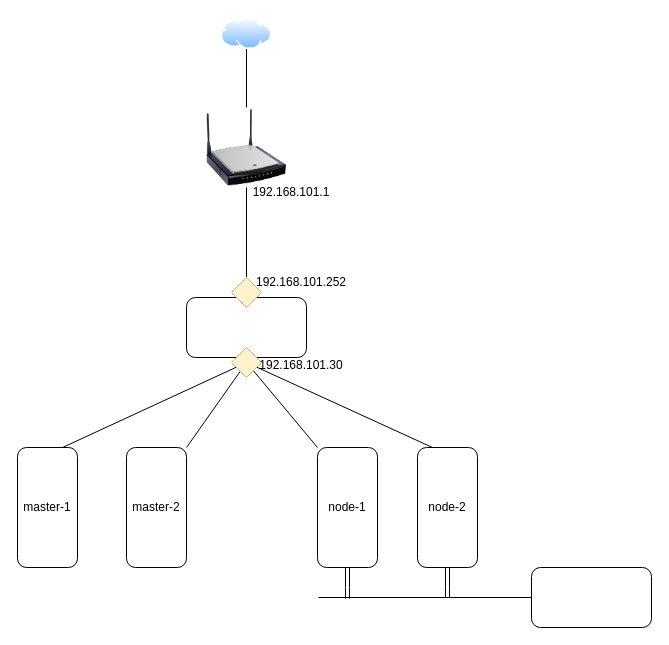
Image size: 669x645. Some labels were removed from this diagram. Each missing label, with the centre of its shape:
"loadbalancer" belongs at (x=246, y=327).
"st/nfs server 192.168.1.254" belongs at (x=591, y=597).
